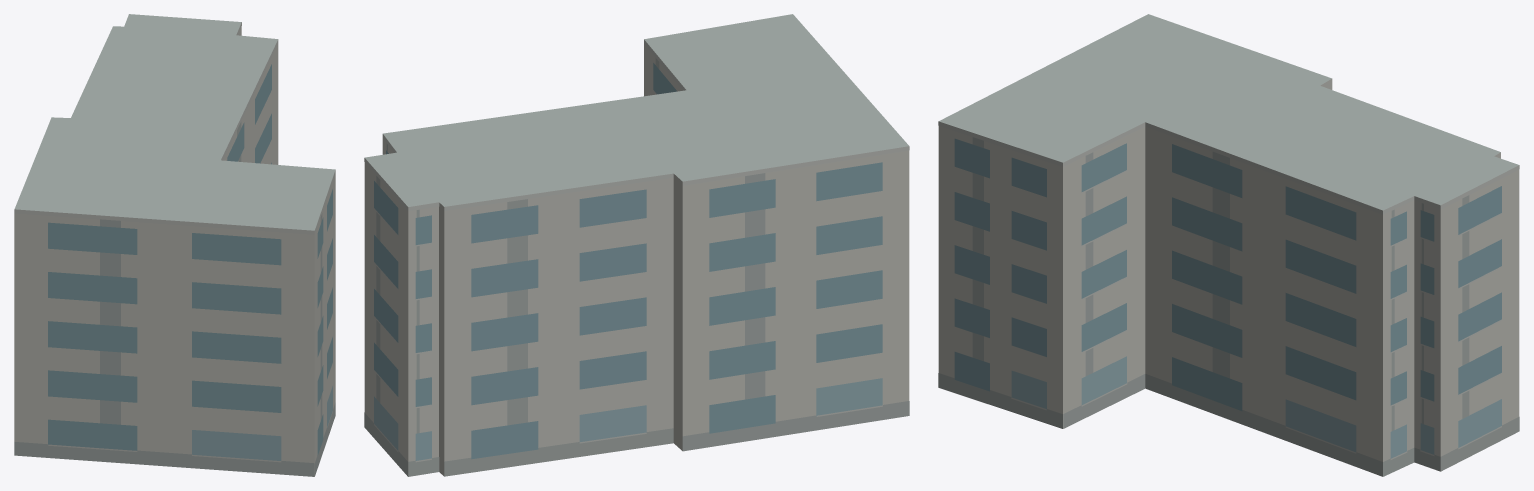
The model's file is survey-upis-32882866.glb.
The picture shows the model from 3 angles, left to right: view 1: azimuth 30°, elevation 25°; view 2: azimuth 150°, elevation 25°; view 3: azimuth 270°, elevation 25°; orthographic projection. The views are drawn at different scales.
Visible parts, largest first — view 1: survey-upis-32882866.tmp; view 2: survey-upis-32882866.tmp; view 3: survey-upis-32882866.tmp.
Part boxes in pixels (left/top/right/bottom): survey-upis-32882866.tmp: left=14, top=14, right=335, bottom=476; survey-upis-32882866.tmp: left=364, top=14, right=909, bottom=476; survey-upis-32882866.tmp: left=938, top=14, right=1519, bottom=476.
Bounding box in the file's own units: 24.14 × 15.25 × 30.15.
